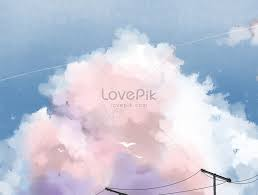sky: (2, 2, 258, 194)
